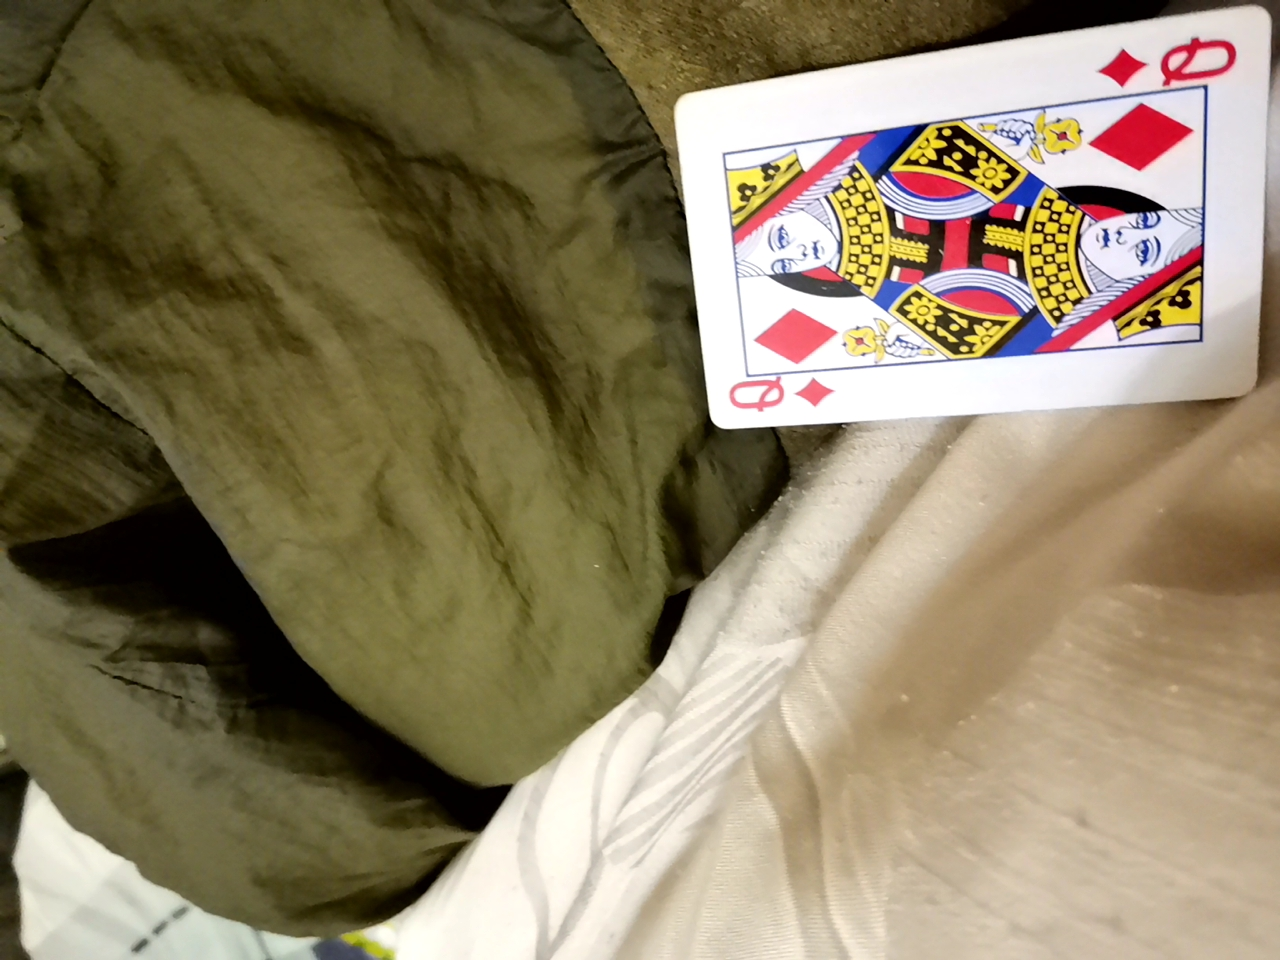fk q: (658, 13, 1249, 433)
